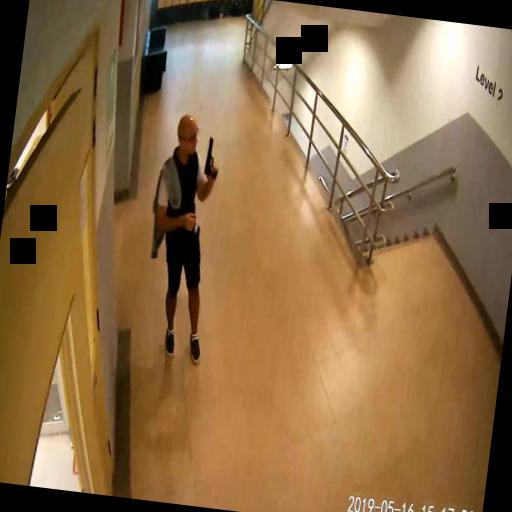Handgun: (202, 134, 220, 178)
